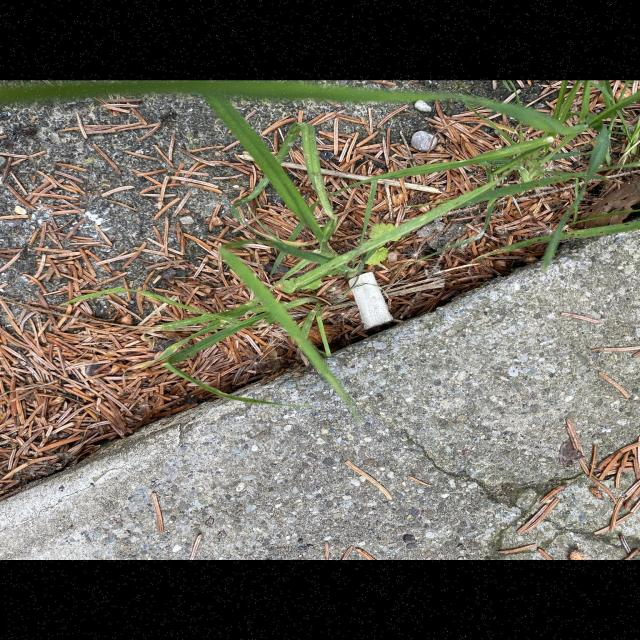other waste: (348, 271, 393, 330)
